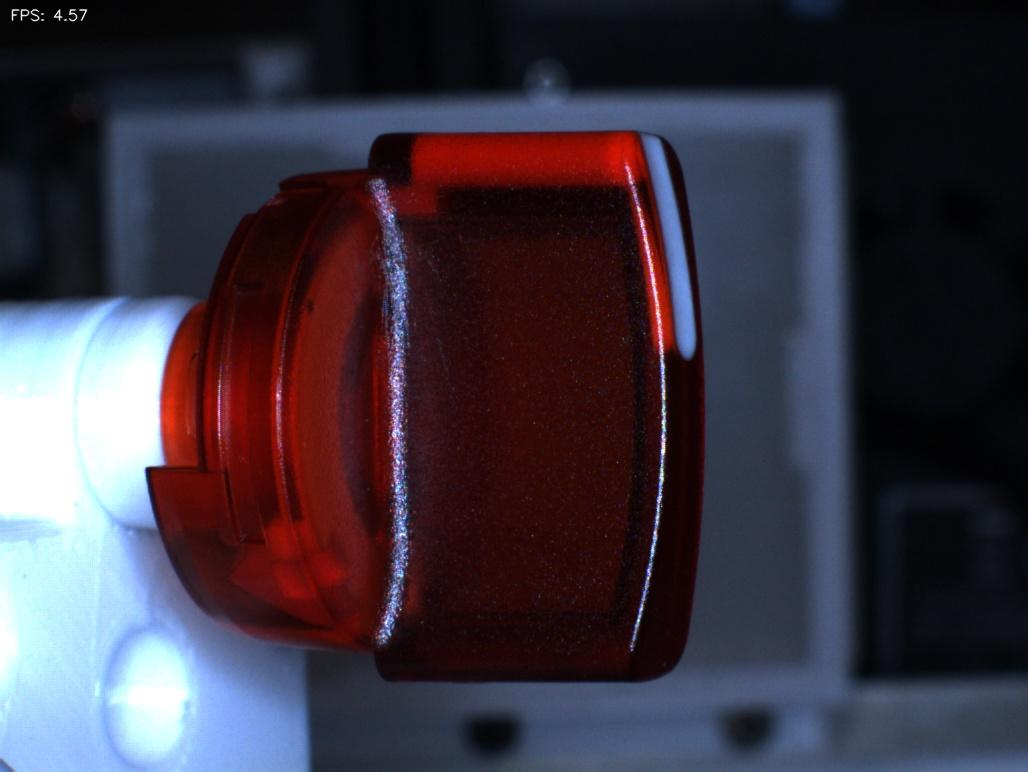Givrage: (347, 213, 420, 373)
